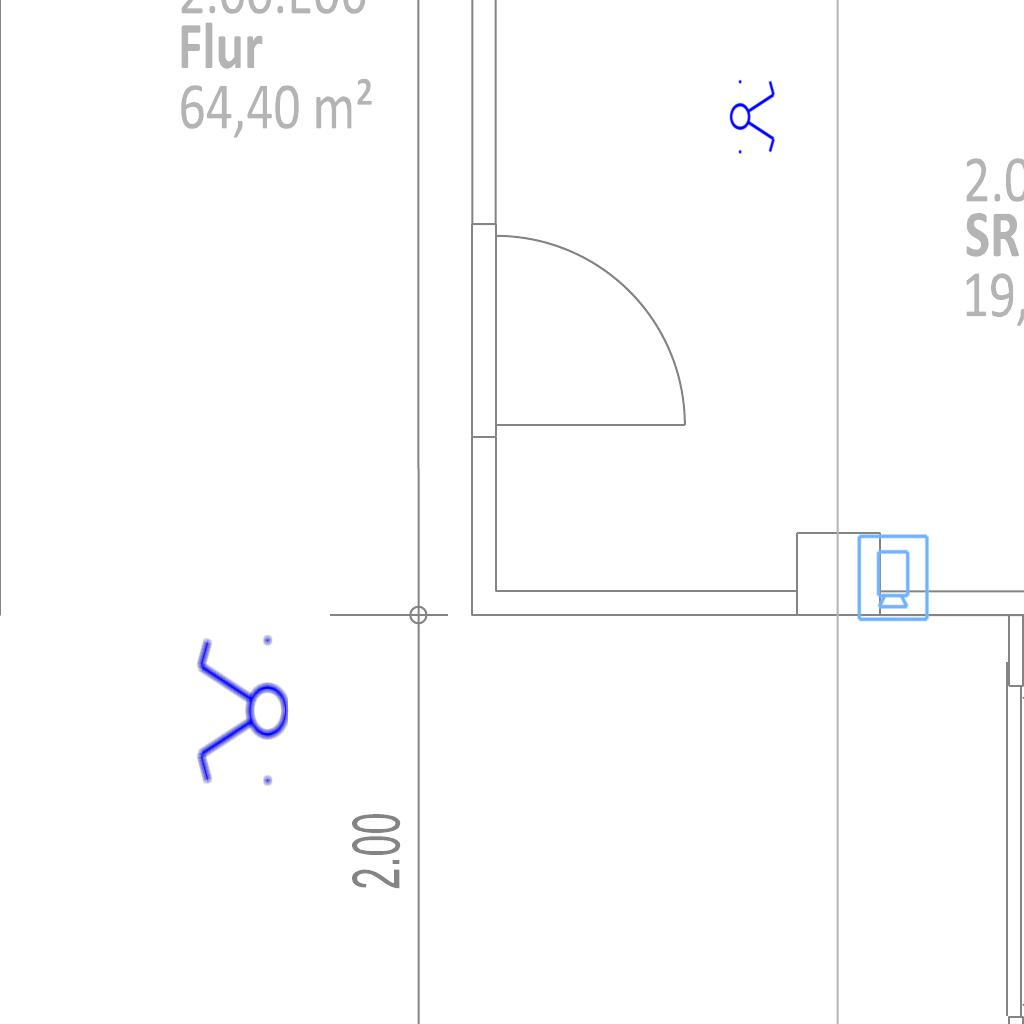KFO_Kamera_mit_Festobjektiv: (854, 532, 931, 623)
Serienschalter: (194, 628, 290, 796), (729, 74, 777, 158)
